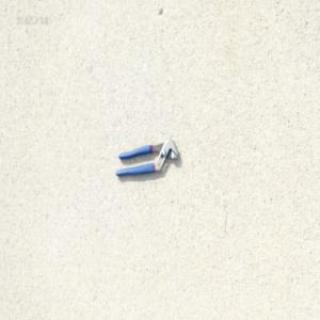Pliertrack_idkeyframe: (113, 135, 178, 176)
